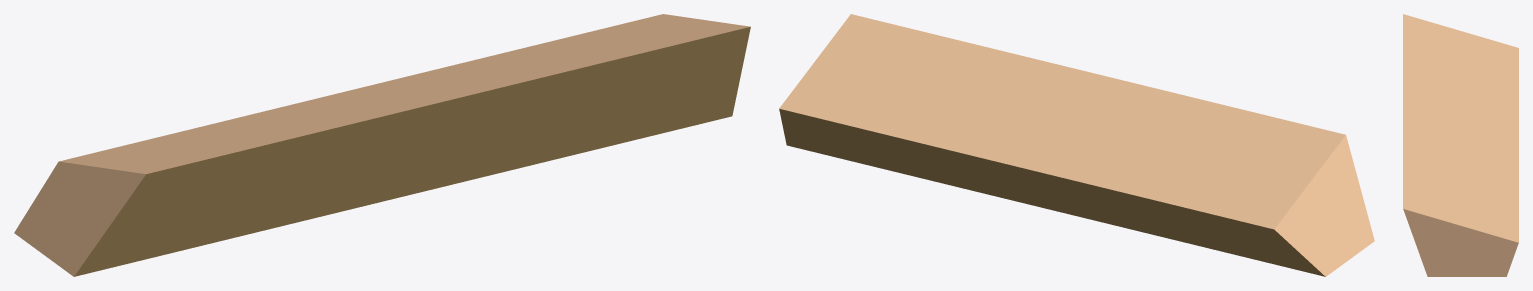
Rendered from Simple_Firewood_05.fbx.
3 renders of one model, left to right at view 1: azimuth 30°, elevation 25°; view 2: azimuth 150°, elevation 25°; view 3: azimuth 270°, elevation 25°, orthographic. The views are drawn at different scales.
Visible parts, largest first — view 1: Simple_Firewood_05; view 2: Simple_Firewood_05; view 3: Simple_Firewood_05.
Part boxes in pixels (bbox=[...]): Simple_Firewood_05: bbox=[14, 14, 750, 276]; Simple_Firewood_05: bbox=[779, 14, 1374, 276]; Simple_Firewood_05: bbox=[1403, 14, 1518, 276].
Bounding box in the file's own units: 51.8 × 7.76 × 11.95.
